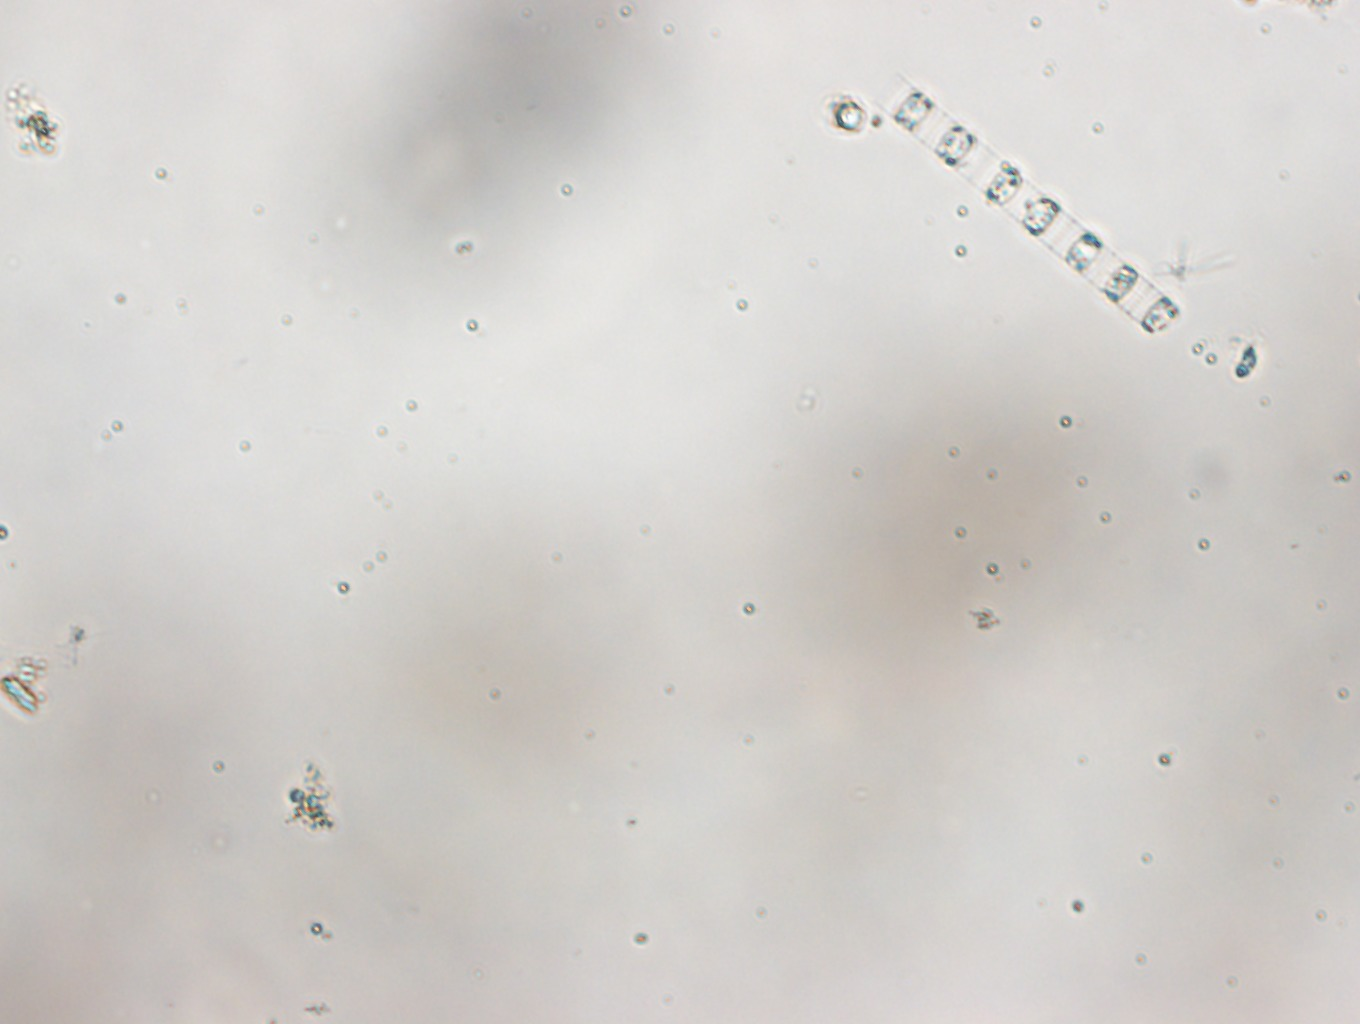skeletonema: (867, 67, 1185, 345)
